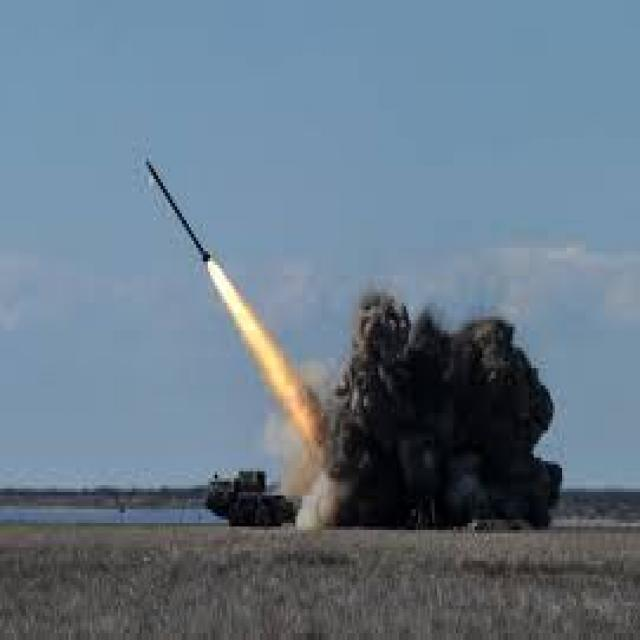missile: (142, 156, 210, 267)
